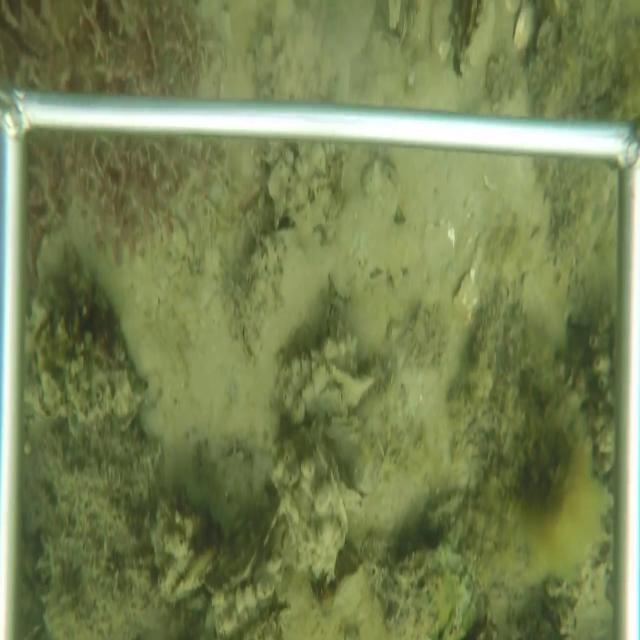Oyster-Closed: (455, 5, 495, 74)
Oyster-Indeterminate: (325, 549, 480, 638), (268, 426, 351, 591), (511, 4, 539, 56)
